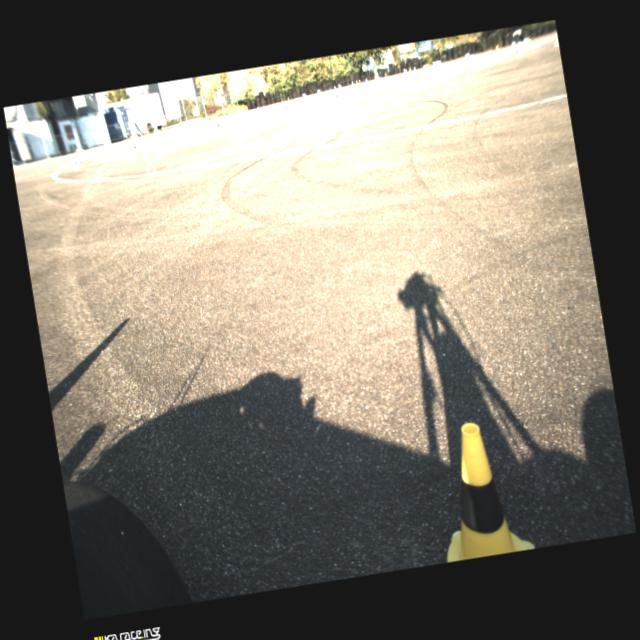blue_cone: (516, 41, 523, 52), (470, 53, 476, 64), (464, 52, 470, 62), (376, 77, 382, 87), (328, 88, 334, 98), (511, 40, 516, 50), (76, 157, 82, 165), (142, 139, 148, 146), (413, 66, 417, 73), (523, 38, 527, 44), (404, 68, 408, 74), (365, 78, 368, 83)
yellow_cone: (427, 417, 535, 562), (132, 143, 140, 155), (72, 159, 80, 170), (215, 120, 222, 132), (482, 55, 489, 67), (552, 34, 559, 46), (420, 72, 427, 84), (526, 35, 532, 45), (284, 105, 290, 114), (494, 44, 500, 52), (334, 92, 340, 98), (408, 66, 412, 72), (402, 68, 406, 74), (384, 72, 388, 77), (355, 80, 358, 84), (358, 80, 361, 84)
